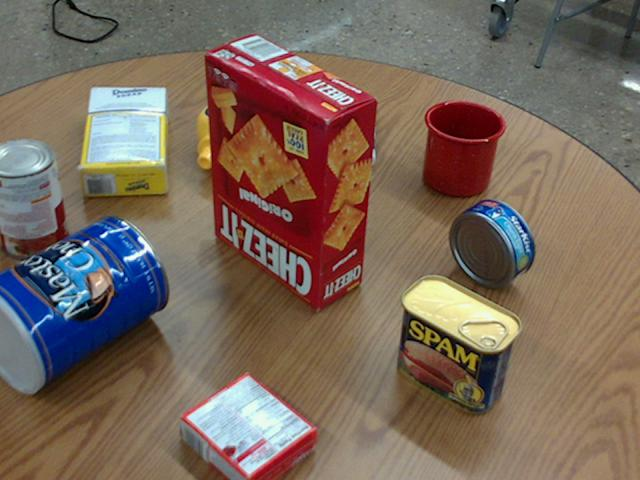cracker_box: (204, 34, 376, 309)
gelatin_box: (180, 371, 317, 479)
large_marker: (360, 106, 375, 166)
master_chef_can: (0, 214, 168, 394)
mug: (420, 100, 504, 196)
mustard_bottle: (196, 69, 308, 168)
potted_meat_can: (396, 275, 522, 413)
sugar_box: (78, 83, 167, 197)
tomato_soup_can: (0, 138, 68, 259)
tuna_fish_can: (449, 198, 533, 287)
